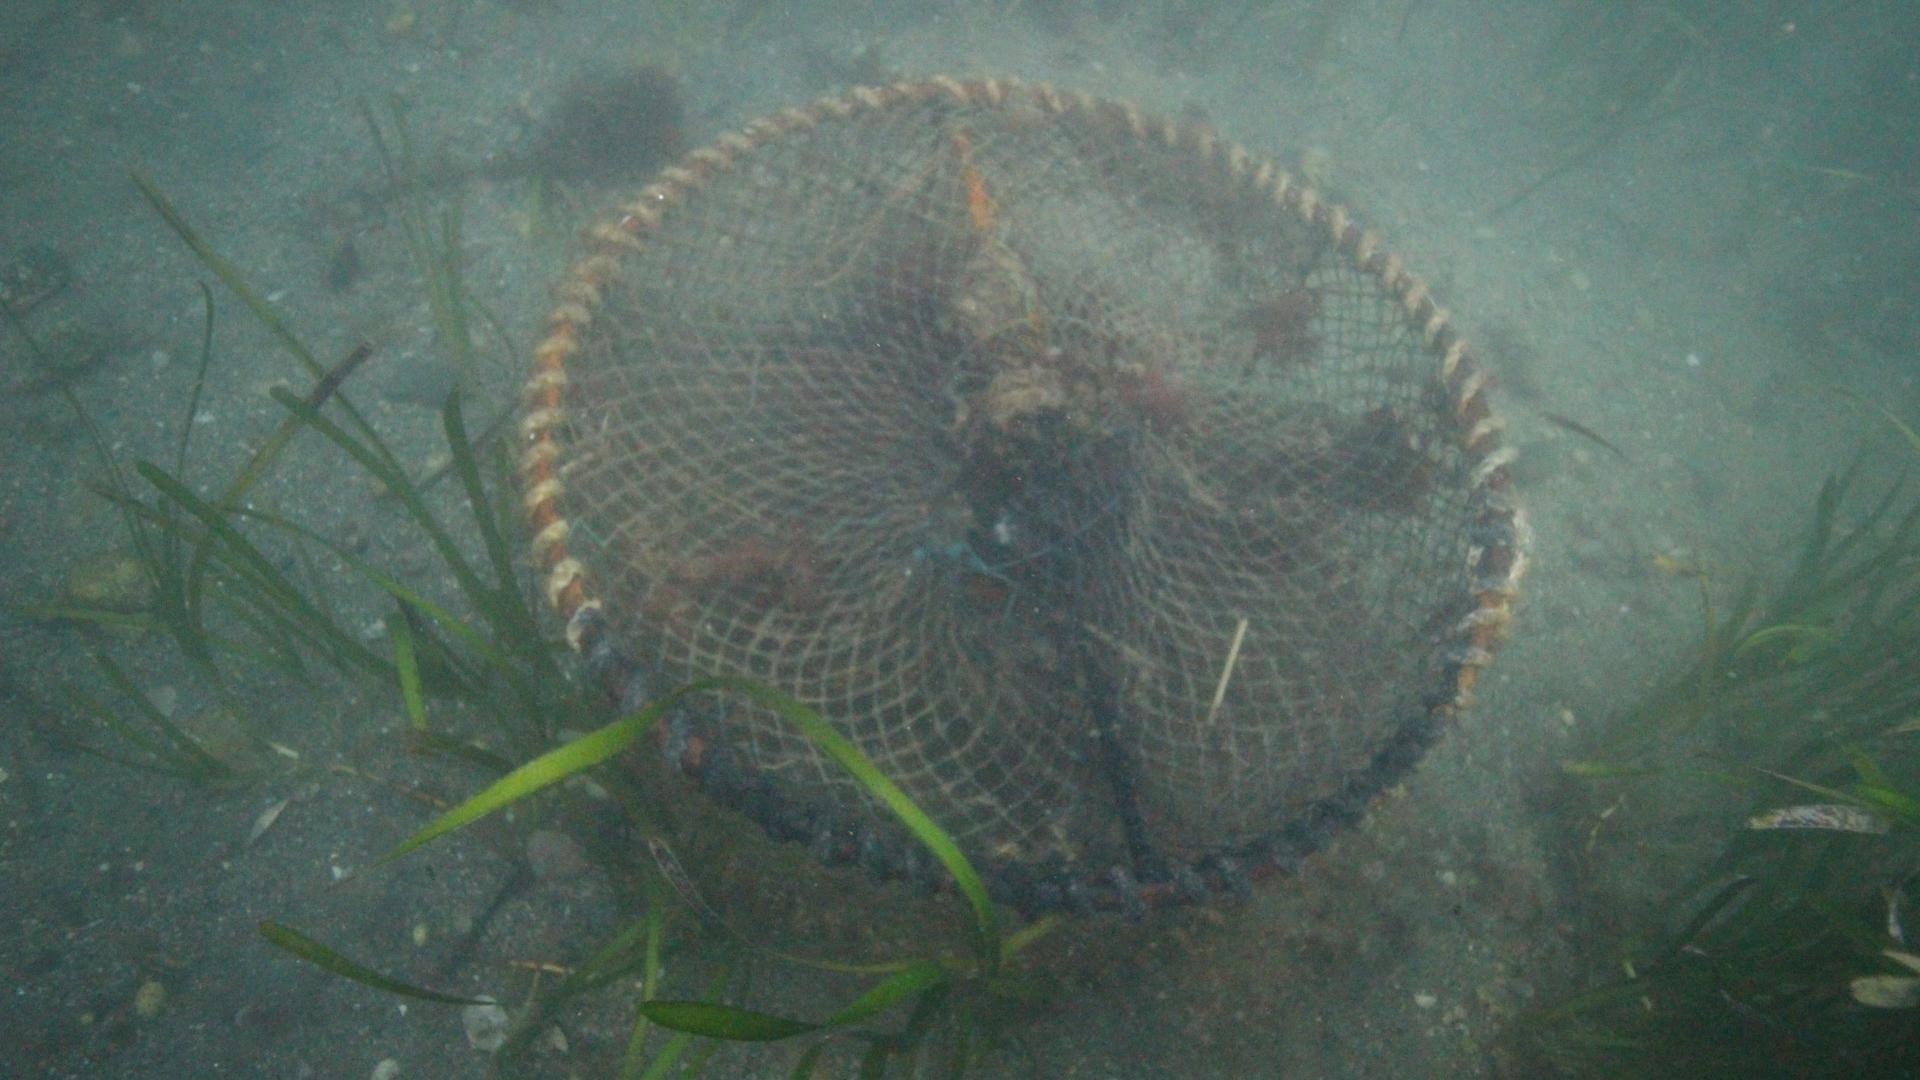circular fish trap: (510, 73, 1538, 924)
